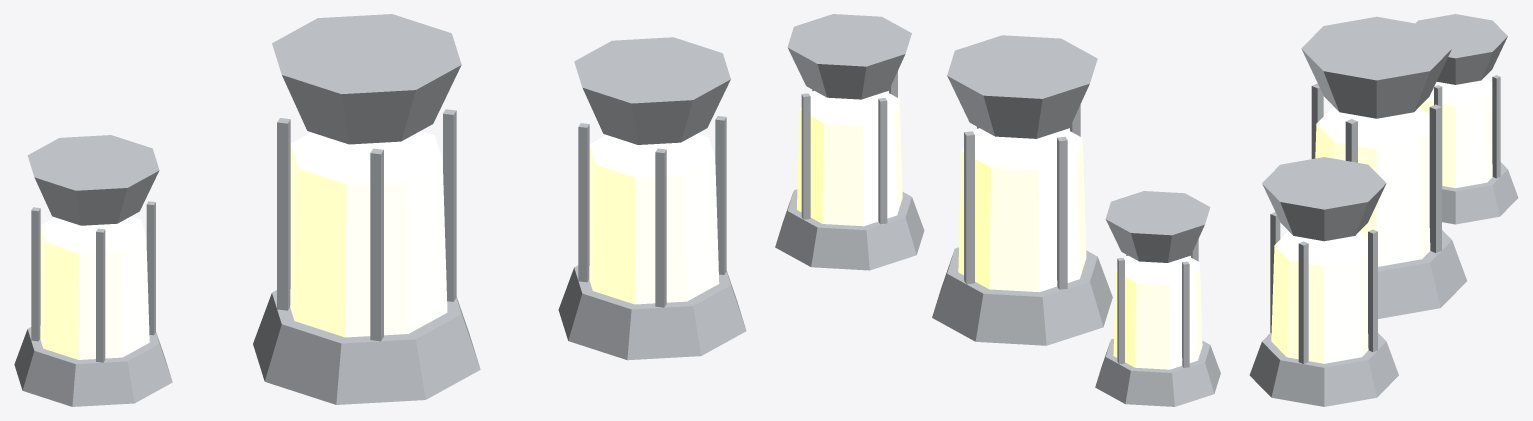
File: safari-camp-and-bush-lodge-lantern-set-6fa2e57a__37690.glb
3 views of the same model, side by side, from view 1: azimuth 30°, elevation 25°; view 2: azimuth 150°, elevation 25°; view 3: azimuth 270°, elevation 25° (orthographic). The views are drawn at different scales.
Visible parts, largest first — view 1: lantern-set-steel, lantern-set-lamp; view 2: lantern-set-steel, lantern-set-lamp; view 3: lantern-set-steel, lantern-set-lamp.
Part boxes in pixels (x1,y1,x2,y2): lantern-set-steel: (14,14,746,406); lantern-set-lamp: (40,131,719,359); lantern-set-steel: (775,14,1220,406); lantern-set-lamp: (797,90,1202,369); lantern-set-steel: (1249,14,1518,406); lantern-set-lamp: (1271,76,1492,363).
Bounding box in the file's own units: 0.85 × 0.391 × 0.41.
